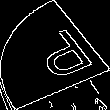P_SE: (16, 24, 94, 86)
